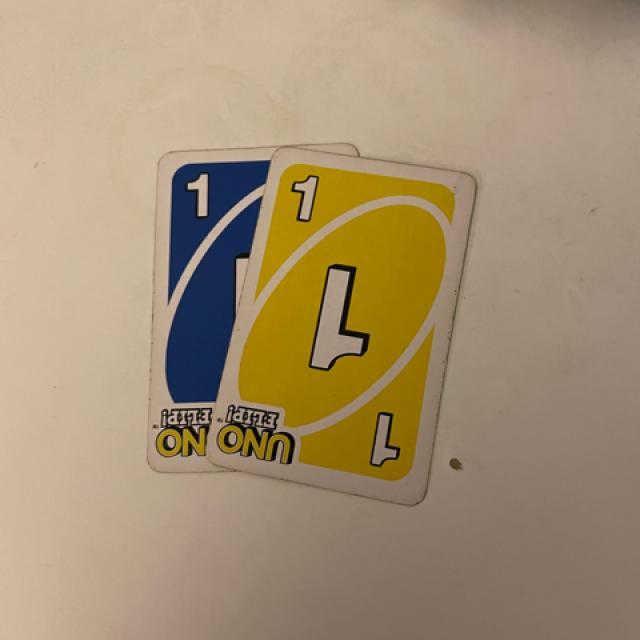lblue-1: (166, 162, 228, 230)
lyellow-1: (276, 168, 332, 236)
